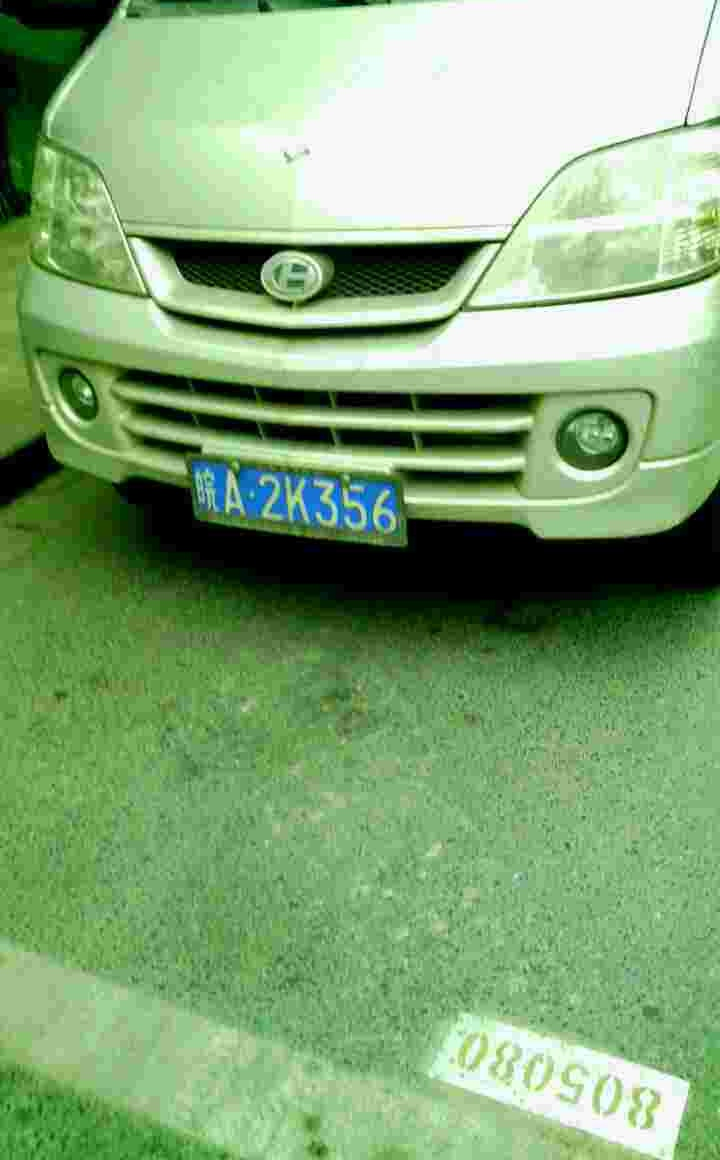license_plate: (191, 451, 396, 532)
